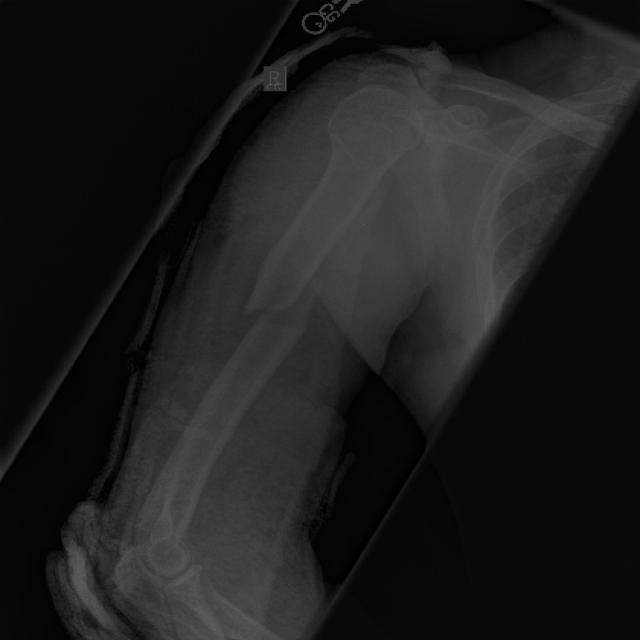humerus fracture: (180, 246, 344, 431)
